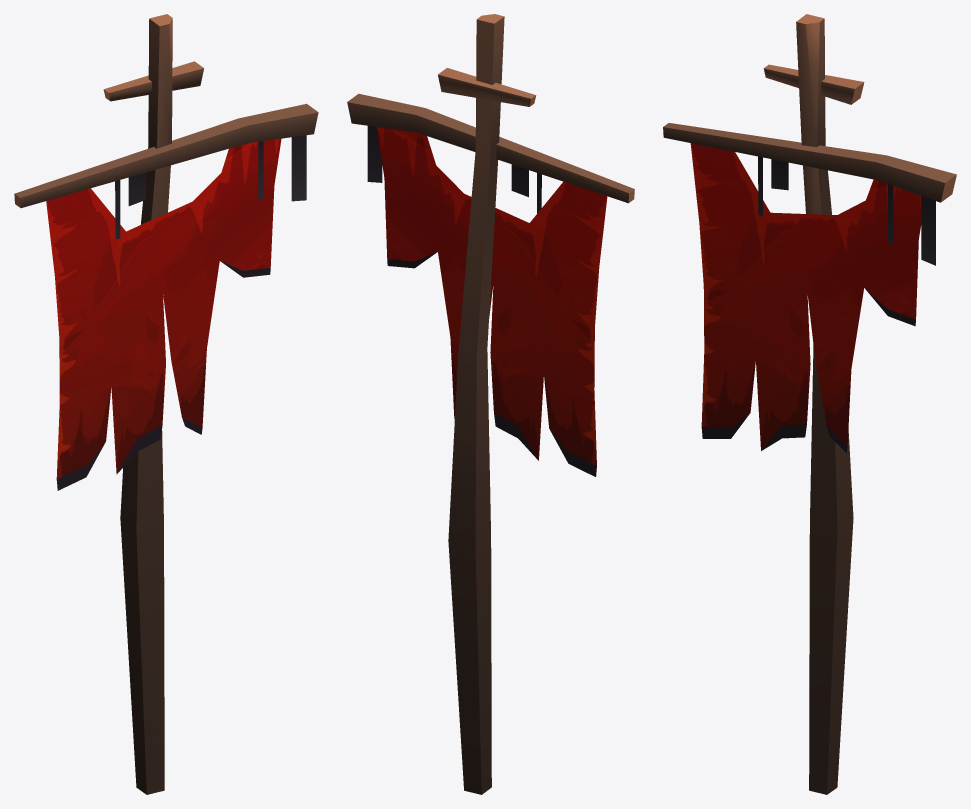
Rendered from Flag_Pole_1A.fbx.
3 views of the same model, side by side, from view 1: azimuth 30°, elevation 25°; view 2: azimuth 150°, elevation 25°; view 3: azimuth 330°, elevation 25° (orthographic). The views are drawn at different scales.
Visible parts, largest first — view 1: Flag_Pole_1A; view 2: Flag_Pole_1A; view 3: Flag_Pole_1A.
Part boxes in pixels (bbox=[...]): Flag_Pole_1A: bbox=[14, 14, 318, 794]; Flag_Pole_1A: bbox=[347, 14, 634, 794]; Flag_Pole_1A: bbox=[663, 14, 956, 794].
Size of the model in its own units: 157 by 401 by 36.84.
